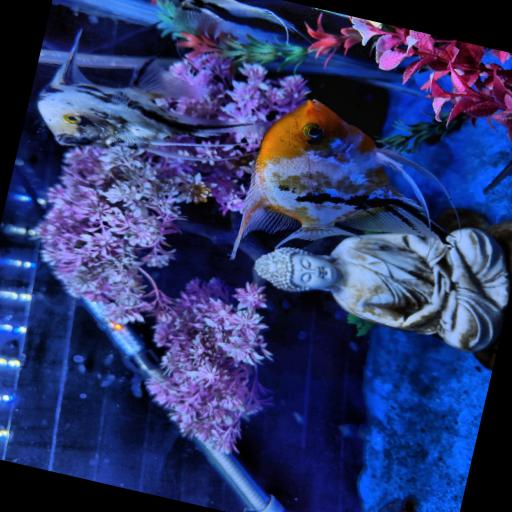Fish: (232, 99, 443, 257), (38, 32, 264, 160), (172, 0, 299, 34)
